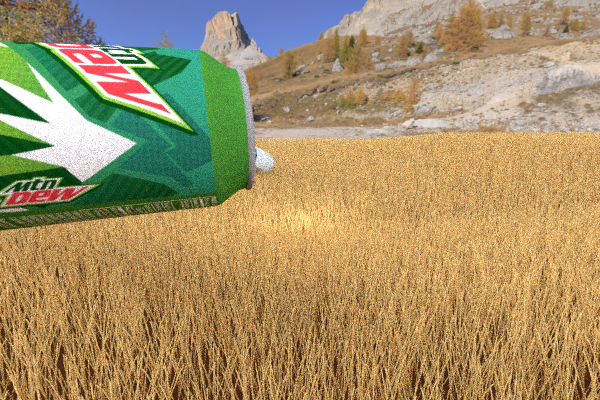bottle: (196, 127, 274, 173)
can: (0, 32, 255, 242)
